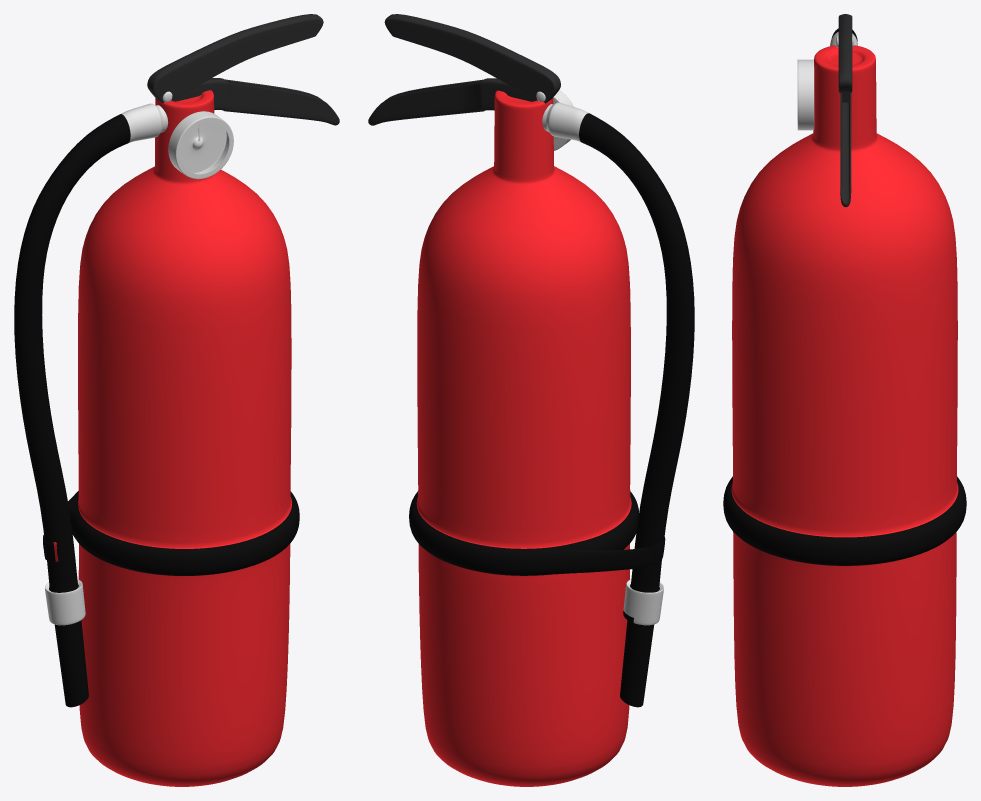
The model's file is extinguisher.fbx.
3 views of the same model, side by side, from view 1: azimuth 30°, elevation 25°; view 2: azimuth 150°, elevation 25°; view 3: azimuth 270°, elevation 25° (orthographic). The views are drawn at different scales.
Parts seen in each view (by area): view 1: Circle, Circle.001, Plane, Plane.001, Circle.002; view 2: Circle, Circle.001, Plane, Plane.001; view 3: Circle, Plane.001, Circle.002, Plane.
Boxes of the visible parts, bbox=[...] form: Circle: bbox=[43, 90, 299, 786]; Circle.001: bbox=[14, 103, 168, 707]; Plane: bbox=[147, 14, 323, 103]; Plane.001: bbox=[172, 78, 339, 125]; Circle.002: bbox=[168, 111, 233, 179]; Circle: bbox=[409, 90, 665, 786]; Circle.001: bbox=[542, 102, 694, 707]; Plane: bbox=[384, 14, 560, 103]; Plane.001: bbox=[368, 78, 535, 125]; Circle: bbox=[723, 45, 966, 786]; Plane.001: bbox=[840, 93, 851, 207]; Circle.002: bbox=[797, 59, 814, 130]; Plane: bbox=[838, 14, 852, 92].
Size of what is drawn, in the model's own units: 163 by 348 by 100.
